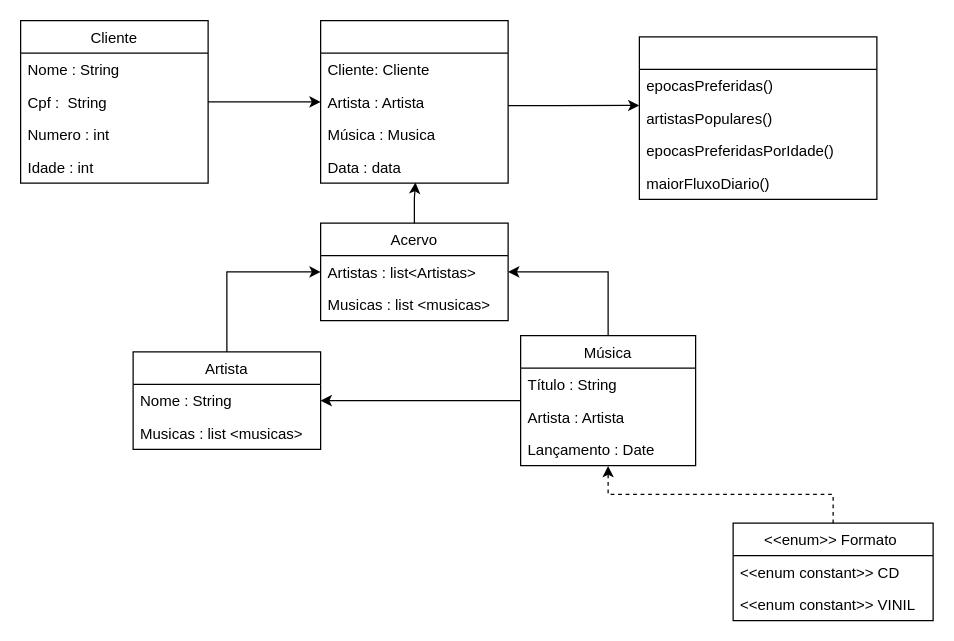
Some shapes in this 954 by 641 pixel diagram are drawn without their labels. The shapes that lost their labels are listed below. From the top down, each one's box as (x1, y1, x2, y2) in pixels, then its label:
(319, 19, 508, 183): Registros
(638, 36, 877, 199): Relatorios
